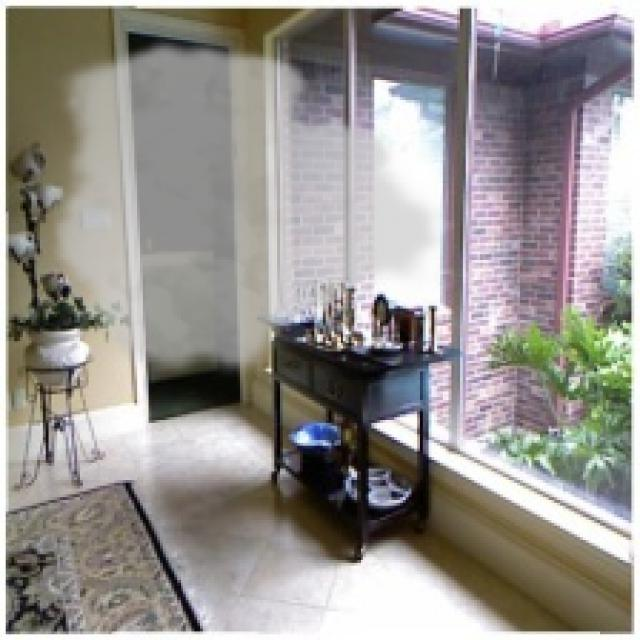smoke: (49, 37, 452, 383)
